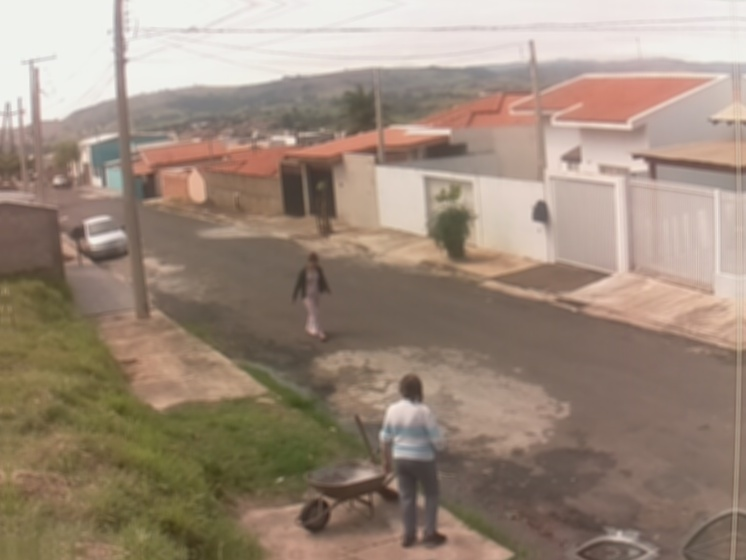person: (378, 373, 448, 548), (291, 252, 331, 341)
